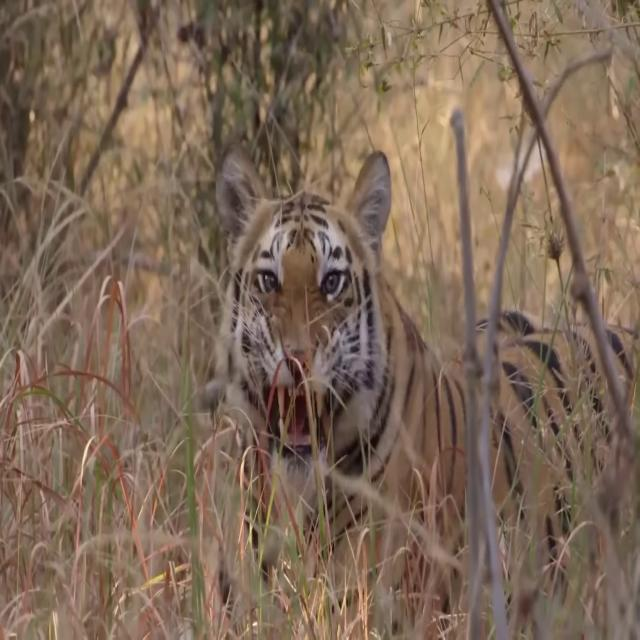tiger: (217, 139, 634, 640)
